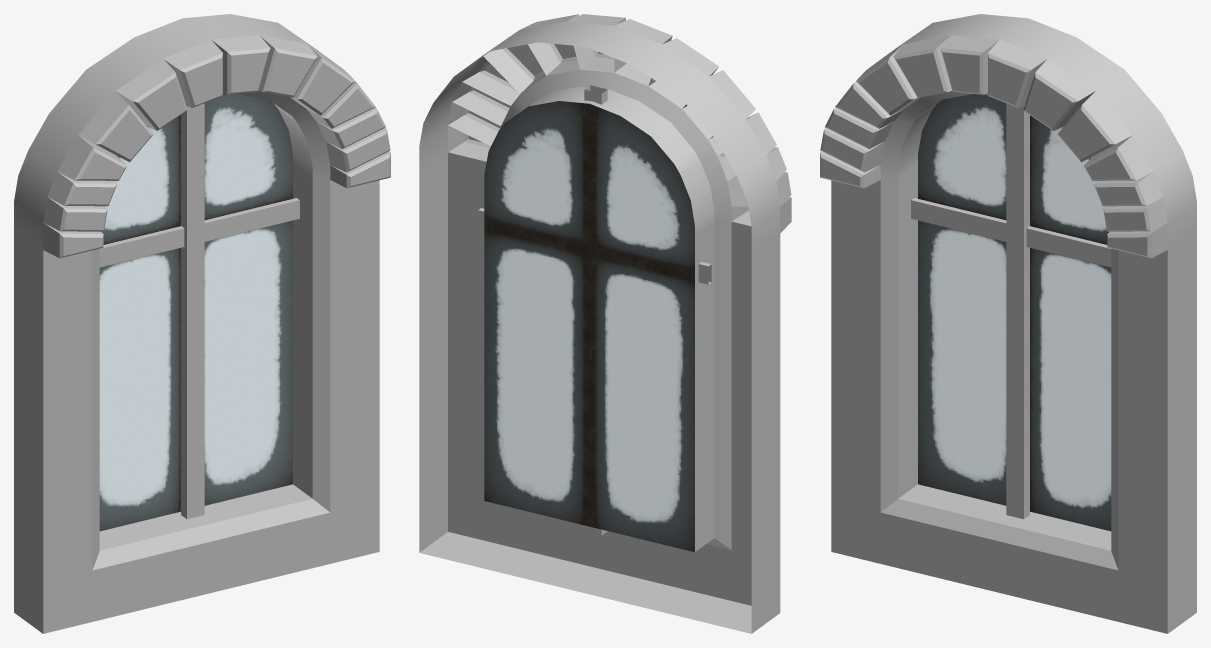
Rendered from SM_Window_D.fbx.
The picture shows the model from 3 angles, left to right: view 1: azimuth 30°, elevation 25°; view 2: azimuth 150°, elevation 25°; view 3: azimuth 330°, elevation 25°; orthographic projection.
Visible parts, largest first — view 1: SM_Window_D; view 2: SM_Window_D; view 3: SM_Window_D.
Part boxes in pixels (box(x1,y1,x2,y2)): SM_Window_D: box(14, 14, 390, 633); SM_Window_D: box(419, 14, 791, 633); SM_Window_D: box(820, 14, 1196, 633).
Bounding box in the file's own units: 86.53 × 19.77 × 136.
